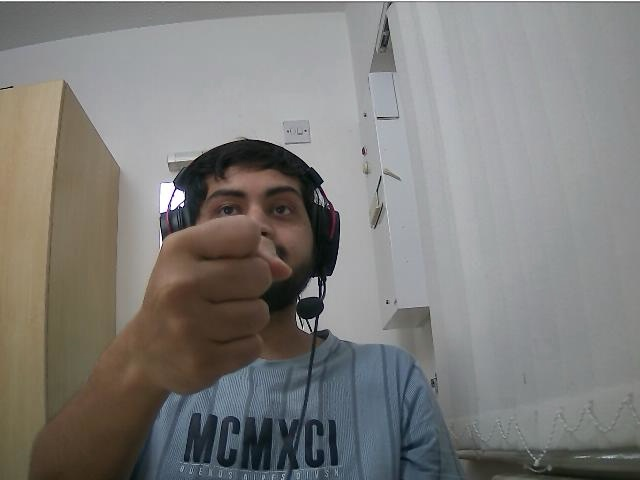hold: (155, 215, 279, 403)
